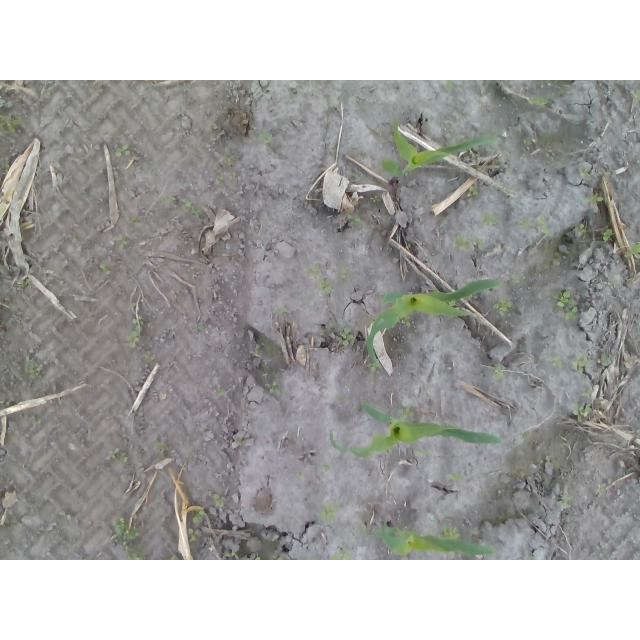Maize: (328, 400, 504, 463), (365, 278, 501, 359), (380, 118, 499, 179), (372, 518, 497, 560)
Weeds: (112, 516, 144, 560), (549, 286, 579, 322), (306, 263, 332, 294), (448, 231, 484, 253), (187, 509, 205, 547), (520, 214, 549, 235), (126, 316, 143, 348), (238, 549, 287, 560), (0, 113, 24, 135), (572, 353, 593, 375), (569, 401, 592, 419), (27, 351, 42, 377), (319, 501, 337, 522), (526, 95, 553, 108), (96, 263, 113, 282), (494, 298, 514, 314), (111, 143, 133, 157), (111, 448, 129, 465), (339, 326, 354, 346), (546, 354, 565, 369), (584, 193, 604, 207), (440, 527, 460, 540), (184, 200, 200, 216), (328, 550, 352, 560), (625, 243, 640, 258), (113, 234, 128, 249), (264, 381, 281, 394), (479, 214, 497, 226), (559, 495, 574, 509), (399, 407, 415, 420), (55, 509, 75, 519), (596, 352, 609, 367), (0, 98, 16, 110), (17, 277, 33, 289), (159, 195, 178, 205), (574, 223, 586, 238), (347, 212, 362, 224), (320, 463, 337, 473), (596, 482, 609, 495), (262, 132, 275, 145), (446, 473, 464, 482), (255, 337, 264, 355), (414, 449, 432, 458), (214, 493, 225, 507), (339, 267, 349, 282), (511, 274, 526, 284), (602, 228, 613, 241), (467, 186, 480, 197), (273, 306, 288, 315), (494, 366, 505, 378), (151, 439, 164, 449), (366, 361, 380, 370), (223, 155, 234, 165), (0, 158, 10, 169), (370, 195, 382, 204), (193, 323, 205, 332), (401, 320, 413, 329), (295, 471, 305, 481), (215, 387, 225, 397), (579, 168, 590, 177), (608, 280, 617, 290), (62, 232, 72, 241), (216, 175, 225, 185), (584, 388, 592, 399), (446, 80, 455, 89), (545, 453, 551, 466), (208, 126, 219, 133), (635, 87, 640, 97), (31, 415, 37, 423), (47, 80, 53, 84)
